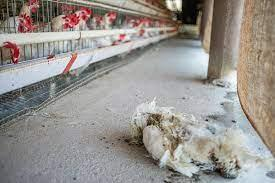AbNormal: (123, 96, 253, 182)
